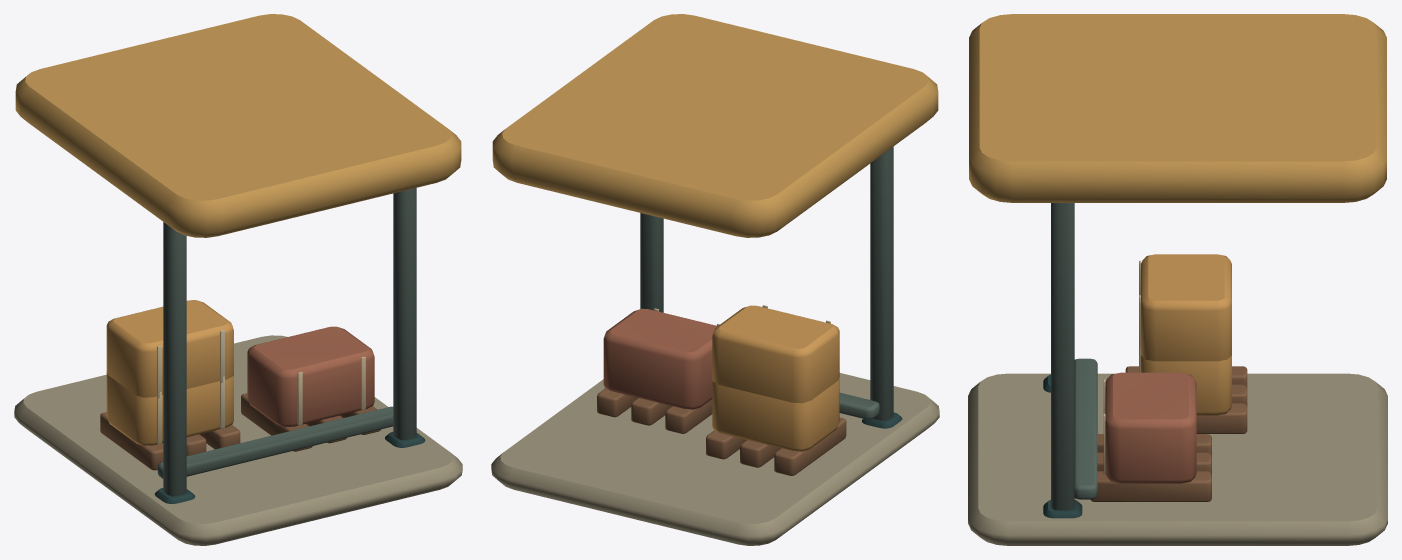
File: truck_works_2.glb
3 renders of one model, left to right at view 1: azimuth 30°, elevation 25°; view 2: azimuth 150°, elevation 25°; view 3: azimuth 270°, elevation 25°, orthographic. The views are drawn at different scales.
Visible parts, largest first — view 1: TruckWorks2; view 2: TruckWorks2; view 3: TruckWorks2.
Part boxes in pixels (x1,y1,x2,y2): TruckWorks2: (14,14,462,545); TruckWorks2: (491,14,939,545); TruckWorks2: (968,14,1387,545).
Bounding box in the file's own units: 2.19 × 2.51 × 2.48.
